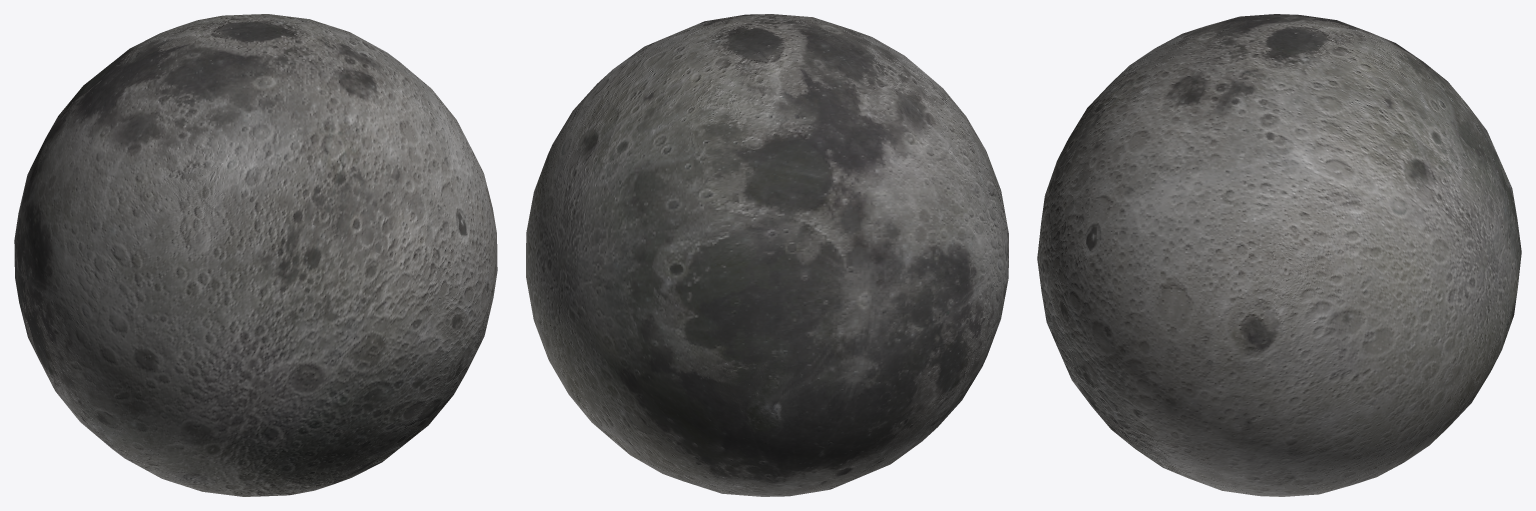
Rendered from plo.glb.
3 views of the same model, side by side, from view 1: azimuth 30°, elevation 25°; view 2: azimuth 150°, elevation 25°; view 3: azimuth 270°, elevation 25° (orthographic).
Visible parts, largest first — view 1: Moon; view 2: Moon; view 3: Moon.
Boxes of the visible parts, bbox=[...] form: Moon: bbox=[14, 14, 497, 496]; Moon: bbox=[526, 14, 1008, 496]; Moon: bbox=[1037, 14, 1521, 496].
Bounding box in the file's own units: 3.48 × 3.48 × 3.49.
Materials: 1 (1 with a texture image).
